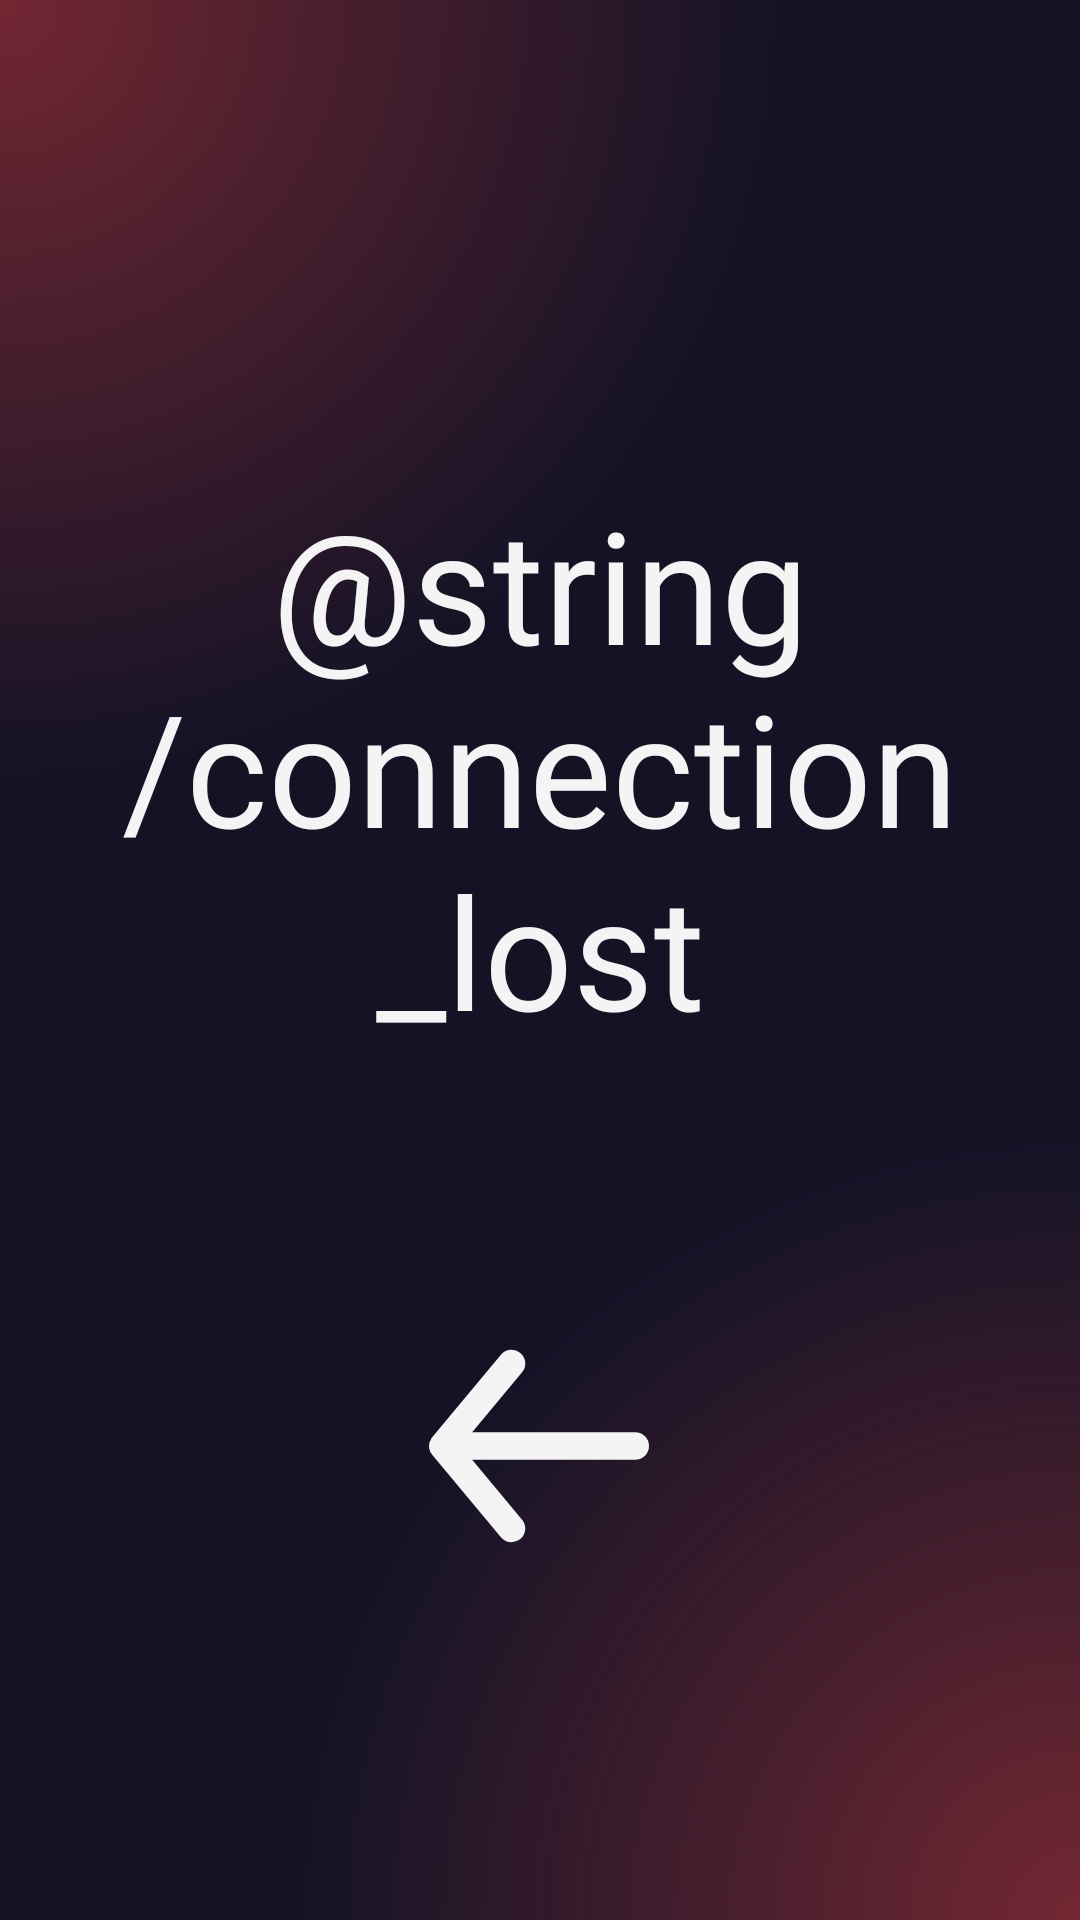

Locate icon controls on the screen. Image size 1080 × 1920, boxes as [x1=x1, y1=y1, x2=x2, y2=y2].
arrow back: [x1=429, y1=1349, x2=649, y2=1543]
